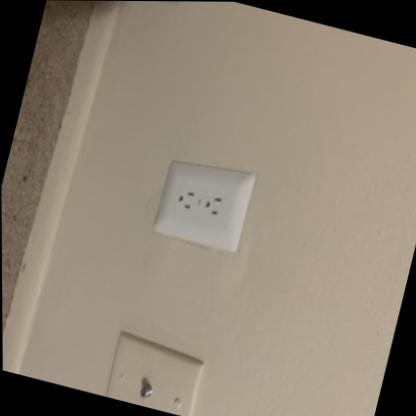OUTLET: (151, 153, 256, 254)
